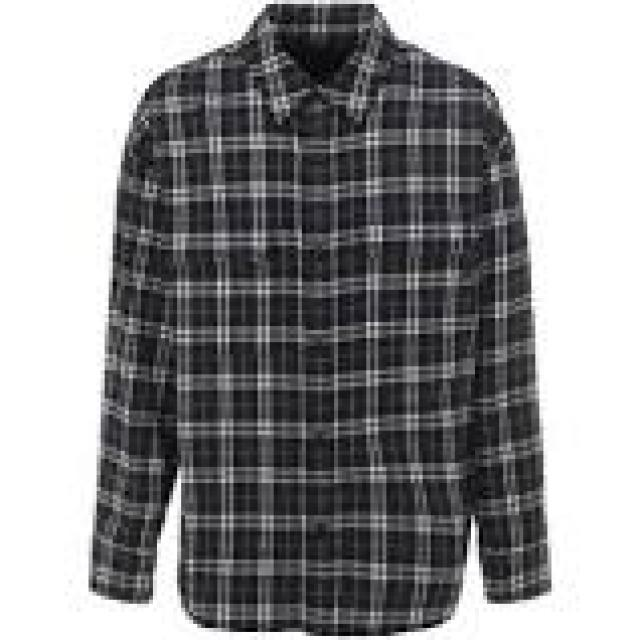plaid: (62, 11, 565, 640)
